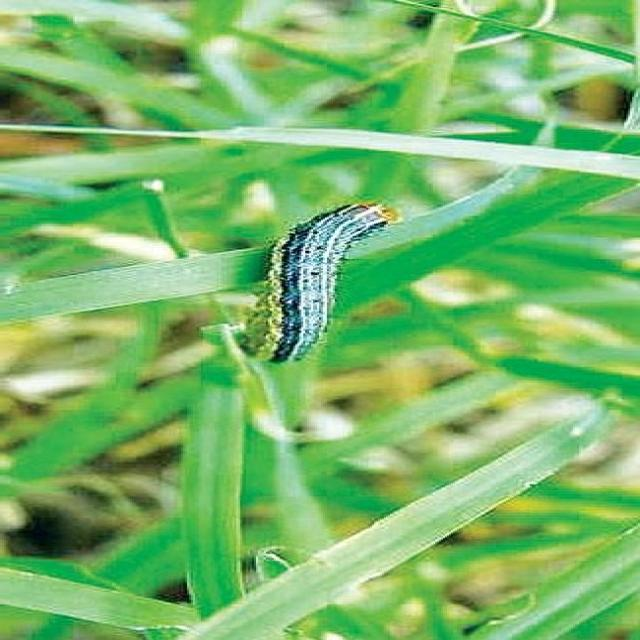army worm: (249, 198, 407, 370)
